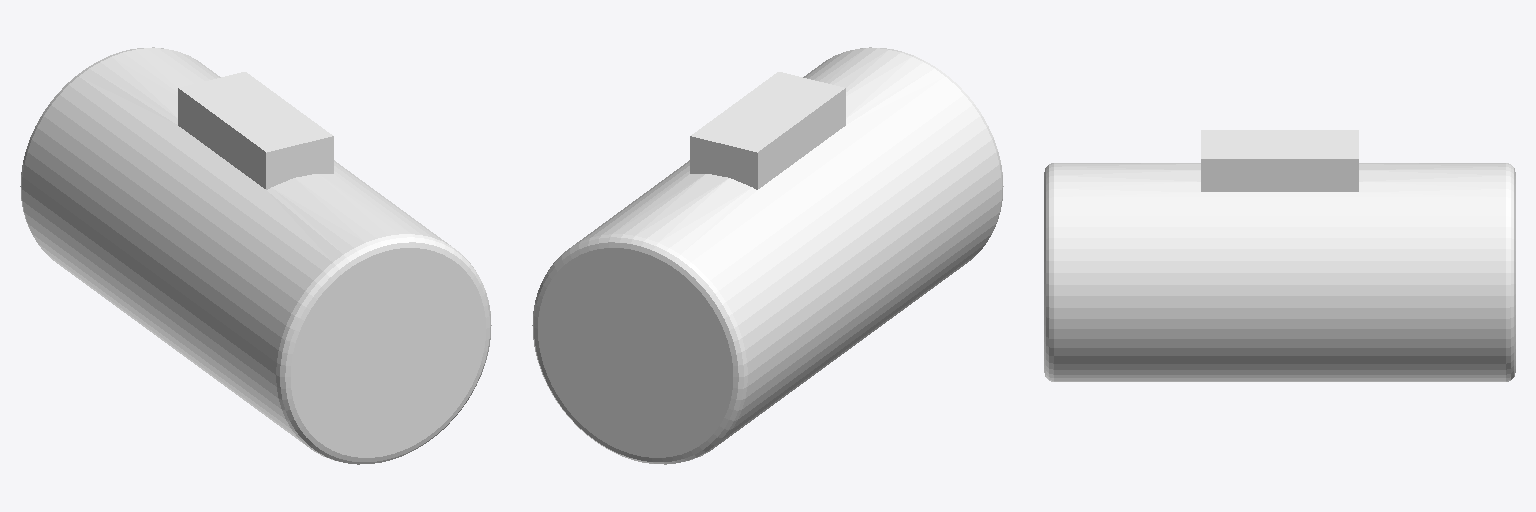
The robot description file, URDF, robot "guan":
<robot
  name="guan">
  <link
    name="guan">
    <inertial>
      <origin
        xyz="-1.6275E-17 -0.75 0.00785920000000005"
        rpy="0 0 0" />
      <mass
        value="588.08" />
      <inertia
        ixx="127.458955349061"
        ixy="-3.22586390175E-17"
        ixz="-2.07202039028163E-16"
        iyy="37.1177393774159"
        iyz="6.79921851562823E-15"
        izz="125.698687882859" />
    </inertial>
    <visual>
      <origin
        xyz="0 0 0"
        rpy="1.5707963267949 0 0" />
      <geometry>
        <mesh
          filename="package://guan/meshes/guan.STL" />
      </geometry>
      <material
        name="">
        <color
          rgba="1 1 1 1" />
      </material>
    </visual>
    <collision>
      <origin
        xyz="0 0 0"
        rpy="1.5707963267949 0 0" />
      <geometry>
        <mesh
          filename="package://guan/meshes/guan.STL" />
      </geometry>
    </collision>
  </link>
</robot>

--- What the picture shows (computed from the rendered views, not written in the file) ---
3 views of the same robot in one strip: view 1: azimuth 30°, elevation 25°; view 2: azimuth 150°, elevation 25°; view 3: azimuth 270°, elevation 25° (orthographic).
Robot: guan — 1 links, 0 joints (none); root link guan; default pose: every joint at zero.
Links seen in each view (by area): view 1: guan; view 2: guan; view 3: guan.
Link boxes in pixels (x1,y1,x2,y2): guan: (20,47,491,464); guan: (532,47,1003,464); guan: (1044,130,1515,381).
Size in the robot's own frame: 0.7 by 1.5 by 0.7995 metres.
1 mesh visuals loaded from 1 distinct referenced files (1 binary STL).
